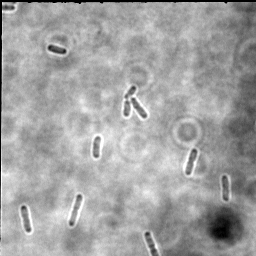Dividing: (67, 193, 84, 227), (183, 148, 199, 177), (129, 97, 149, 120), (143, 230, 160, 255), (20, 205, 32, 234), (220, 174, 230, 202)
Rod: (90, 135, 103, 160), (47, 44, 68, 56), (123, 85, 138, 100), (122, 99, 132, 118)
